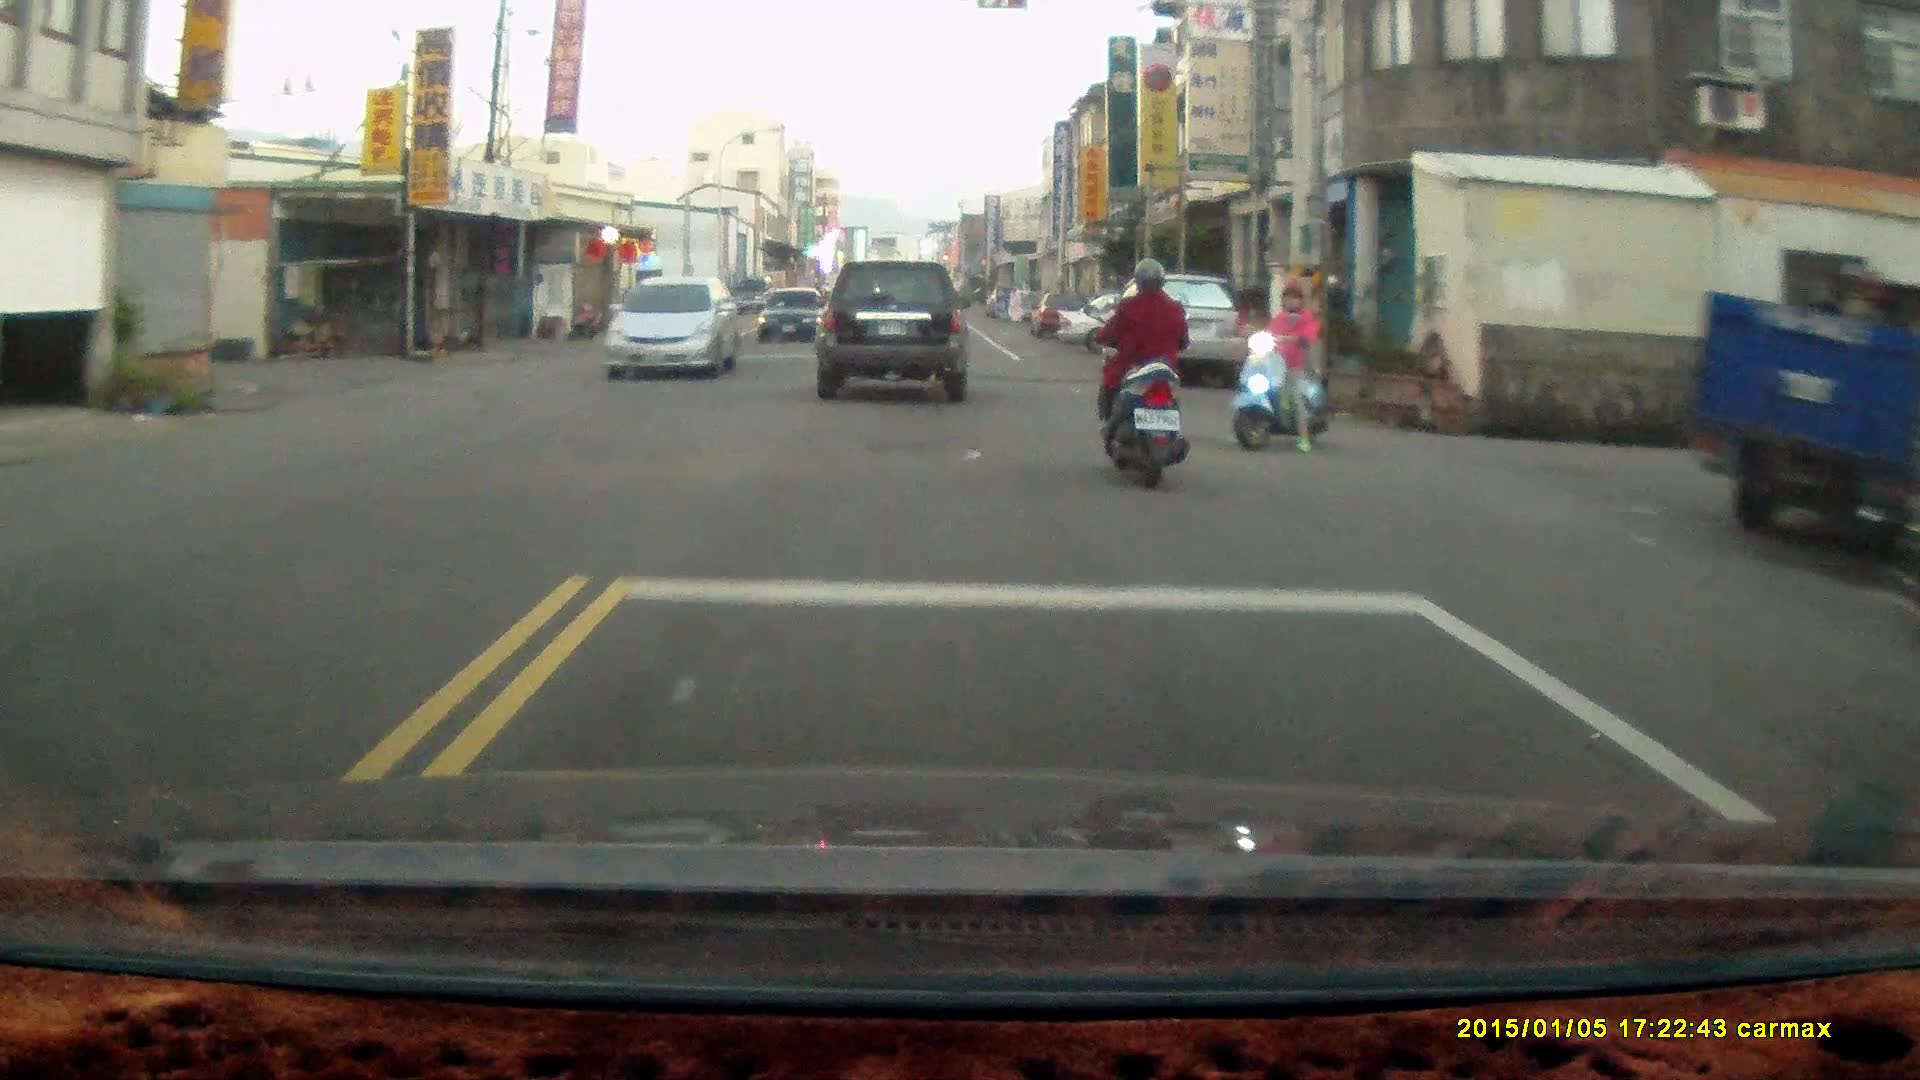rider: (1098, 254, 1189, 493), (1229, 271, 1334, 456)
vehicle: (1690, 247, 1920, 562), (816, 255, 973, 403), (1105, 274, 1253, 388), (597, 277, 745, 379), (758, 286, 827, 345)
